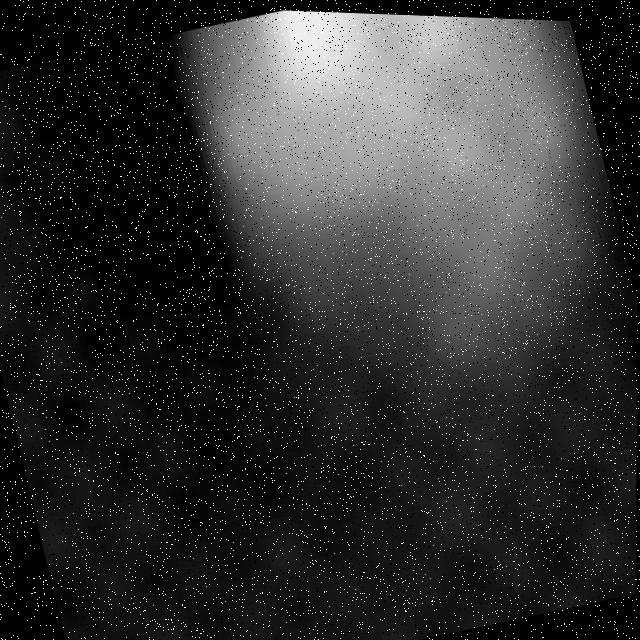person: (181, 6, 637, 429)
